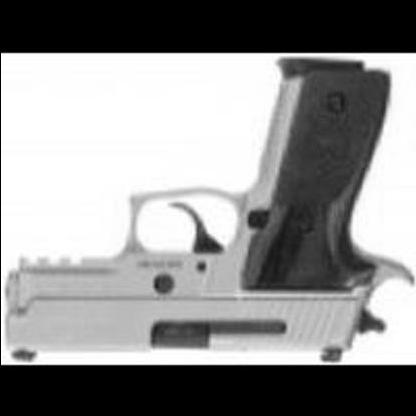weapon: (5, 58, 416, 364)
